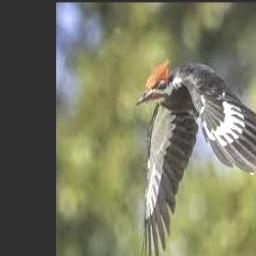Woodpecker: (136, 58, 256, 256)
